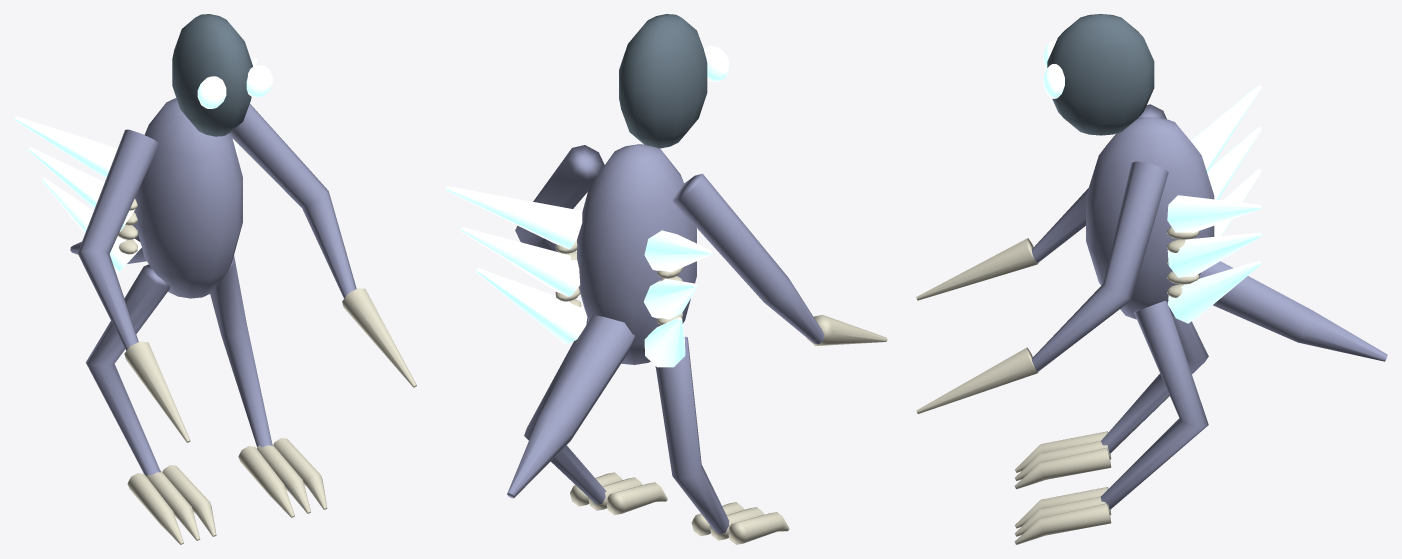
Rendered from alien_lurker.glb.
3 views of the same model, side by side, from view 1: azimuth 30°, elevation 25°; view 2: azimuth 150°, elevation 25°; view 3: azimuth 270°, elevation 25° (orthographic). The views are drawn at different scales.
Visible parts, largest first — view 1: chest_core_1, head_2, arm_9, arm_18, leg_5, leg_14, phase_fin_11, foreclaw_blade_19, foreclaw_blade_10, phase_fin_12, phase_fin_13, foot_6 (+7 smaller); view 2: chest_core_1, head_2, tail_23, arm_9, leg_5, phase_fin_20, phase_fin_21, arm_18, phase_fin_22, leg_14, phase_fin_11, phase_fin_13 (+6 smaller); view 3: chest_core_1, head_2, arm_18, leg_14, tail_23, leg_5, phase_fin_22, phase_fin_20, phase_fin_21, foreclaw_blade_19, foreclaw_blade_10, phase_fin_11 (+10 smaller).
Part boxes in pixels (left/top/right/bottom): chest_core_1: left=134, top=98, right=242, bottom=298; head_2: left=172, top=14, right=252, bottom=136; arm_9: left=77, top=129, right=159, bottom=350; arm_18: left=229, top=104, right=356, bottom=298; leg_5: left=86, top=264, right=169, bottom=476; leg_14: left=210, top=255, right=272, bottom=447; phase_fin_11: left=14, top=116, right=117, bottom=178; foreclaw_blade_19: left=342, top=288, right=416, bottom=387; foreclaw_blade_10: left=124, top=341, right=190, bottom=442; phase_fin_12: left=28, top=147, right=135, bottom=231; phase_fin_13: left=41, top=177, right=141, bottom=273; foot_6: left=127, top=473, right=183, bottom=544; chest_core_1: left=577, top=144, right=696, bottom=364; head_2: left=619, top=14, right=707, bottom=148; tail_23: left=507, top=315, right=634, bottom=498; arm_9: left=672, top=173, right=824, bottom=344; leg_5: left=655, top=336, right=729, bottom=534; phase_fin_20: left=445, top=186, right=582, bottom=249; phase_fin_21: left=460, top=227, right=580, bottom=296; arm_18: left=515, top=145, right=604, bottom=252; phase_fin_22: left=475, top=267, right=587, bottom=344; leg_14: left=524, top=318, right=606, bottom=504; phase_fin_11: left=644, top=230, right=712, bottom=272; phase_fin_13: left=644, top=317, right=685, bottom=367; chest_core_1: left=1086, top=117, right=1214, bottom=319; head_2: left=1047, top=14, right=1154, bottom=135; arm_18: left=1032, top=161, right=1168, bottom=371; leg_14: left=1101, top=300, right=1208, bottom=509; tail_23: left=1199, top=261, right=1387, bottom=361; leg_5: left=1101, top=316, right=1208, bottom=453; phase_fin_22: left=1168, top=260, right=1261, bottom=323; phase_fin_20: left=1167, top=195, right=1261, bottom=232; phase_fin_21: left=1167, top=232, right=1261, bottom=277; foreclaw_blade_19: left=916, top=347, right=1038, bottom=413; foreclaw_blade_10: left=916, top=238, right=1038, bottom=300; phase_fin_11: left=1190, top=85, right=1261, bottom=172.
Bounding box in the file's own units: 1.07 × 1.99 × 1.72.
